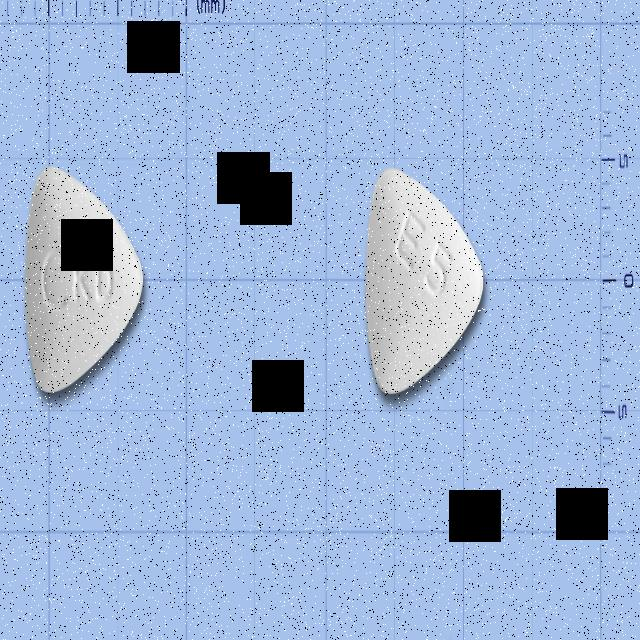Entecabell: (23, 163, 144, 395), (365, 167, 484, 394)
